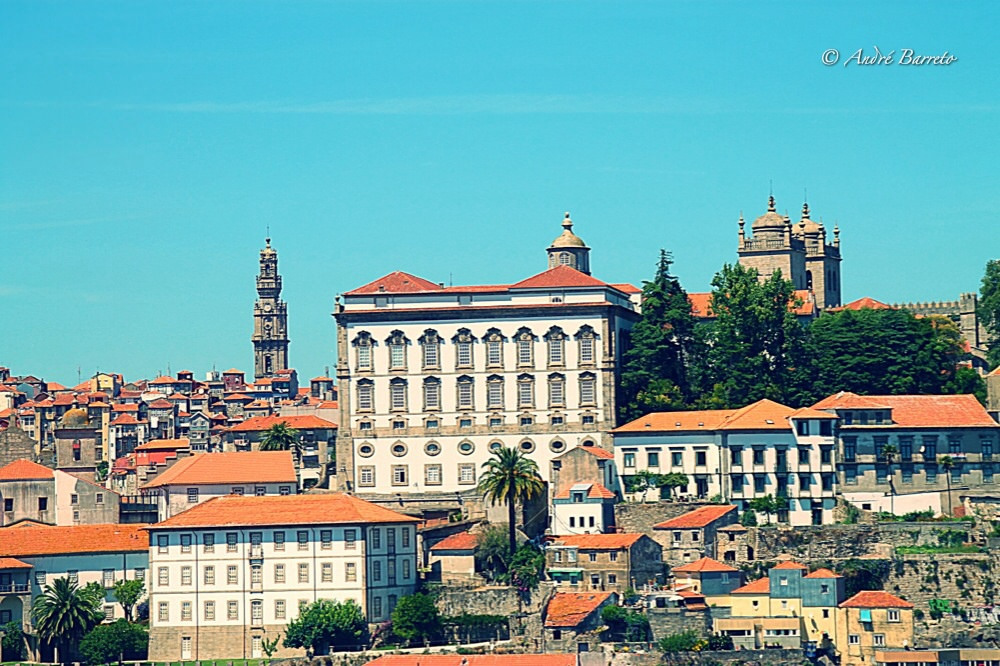clerigos: (246, 225, 290, 381)
